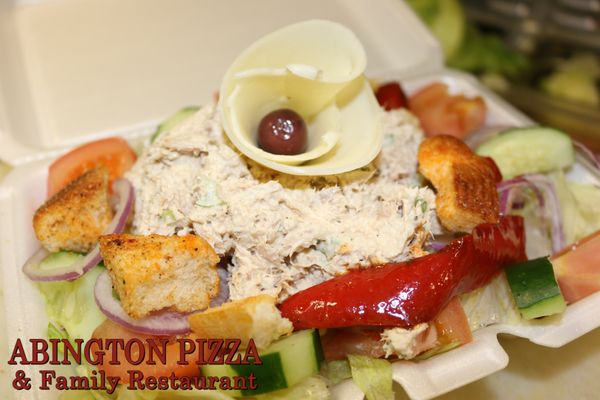pizza: (220, 17, 382, 181)
